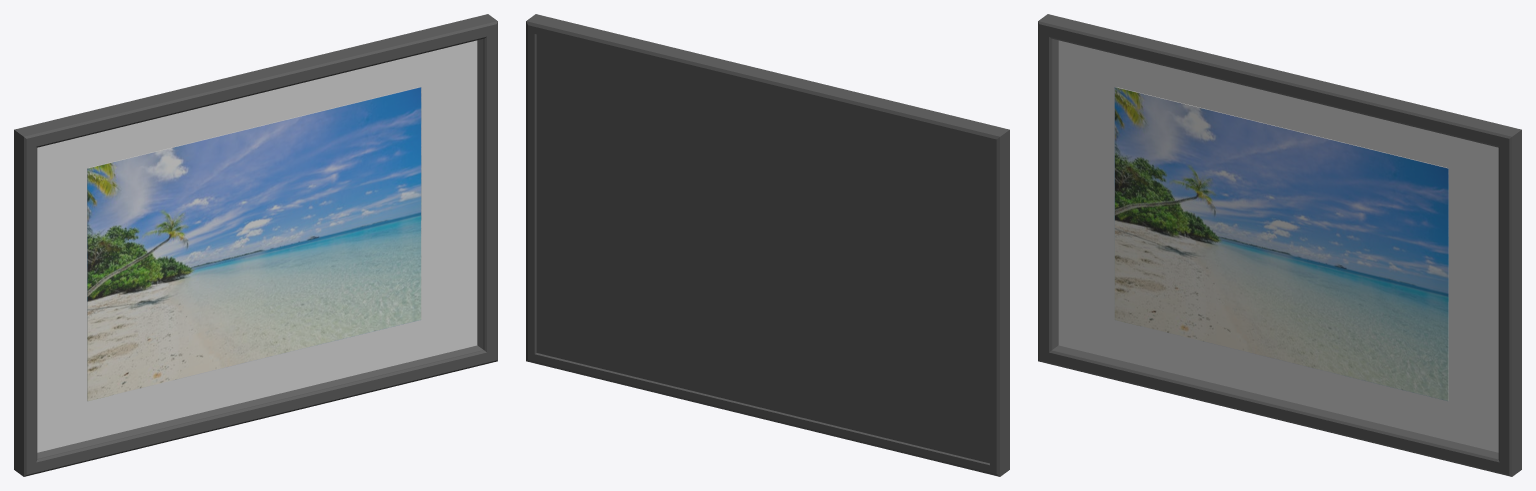
3 views of the same model, side by side, from view 1: azimuth 30°, elevation 25°; view 2: azimuth 150°, elevation 25°; view 3: azimuth 330°, elevation 25° (orthographic).
Visible parts, largest first — view 1: Photo Frame; view 2: Photo Frame; view 3: Photo Frame.
Part boxes in pixels (<box>): Photo Frame: <box>14,14,497,476</box>; Photo Frame: <box>526,14,1009,476</box>; Photo Frame: <box>1038,14,1521,476</box>.
Bounding box in the file's own units: 175 × 120 × 7.2.
Materials: 4 (1 with a texture image).
